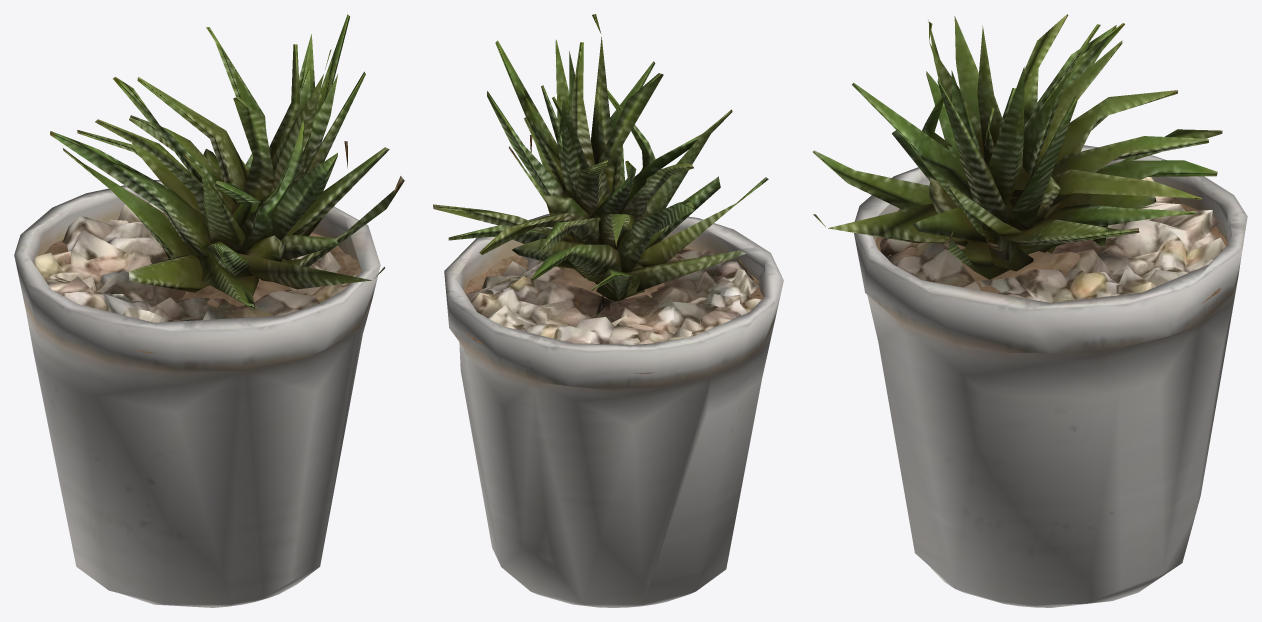
Rendered from potted_plant_04.glb.
The picture shows the model from 3 angles, left to right: view 1: azimuth 30°, elevation 25°; view 2: azimuth 150°, elevation 25°; view 3: azimuth 270°, elevation 25°; orthographic projection. The views are drawn at different scales.
Parts seen in each view (by area): view 1: potted_plant_04_ground; view 2: potted_plant_04_ground; view 3: potted_plant_04_ground.
Part boxes in pixels (box(x1,y1,x2,y2)): potted_plant_04_ground: box(14, 14, 404, 607); potted_plant_04_ground: box(433, 14, 783, 607); potted_plant_04_ground: box(812, 14, 1247, 607).
Size of the model in its own units: 0.1664 by 0.2671 by 0.1833.
1 material, 1 textured.
